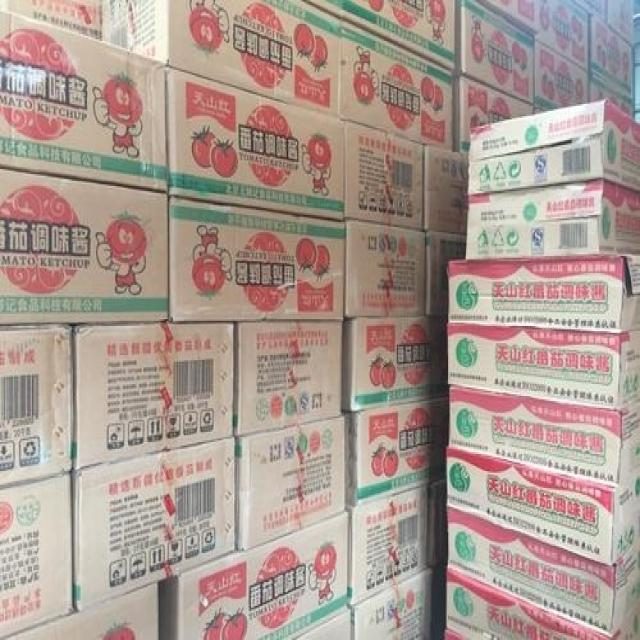box: (0, 9, 168, 191), (73, 435, 236, 613), (101, 0, 340, 118), (166, 67, 346, 220), (0, 167, 170, 326), (447, 503, 640, 635), (159, 509, 348, 640), (74, 321, 234, 471), (447, 445, 640, 568), (170, 196, 346, 323), (448, 386, 640, 486), (467, 97, 640, 195), (448, 326, 640, 410), (448, 254, 640, 335), (340, 19, 454, 150), (234, 418, 346, 551), (466, 179, 640, 261), (445, 567, 640, 640), (234, 321, 344, 435), (0, 471, 74, 640), (0, 326, 74, 488), (343, 394, 448, 507), (302, 0, 456, 73), (342, 316, 448, 411), (348, 486, 429, 608), (0, 580, 160, 640), (344, 118, 424, 230), (456, 0, 534, 106), (344, 220, 425, 317), (351, 567, 433, 640), (453, 77, 532, 152), (534, 41, 589, 113), (536, 0, 590, 73), (425, 143, 468, 232), (3, 0, 101, 39), (591, 15, 635, 101), (425, 230, 466, 317), (475, 0, 539, 38), (289, 606, 351, 640), (589, 73, 635, 118), (428, 480, 448, 567), (605, 0, 635, 48), (431, 567, 448, 640), (572, 0, 607, 22)
